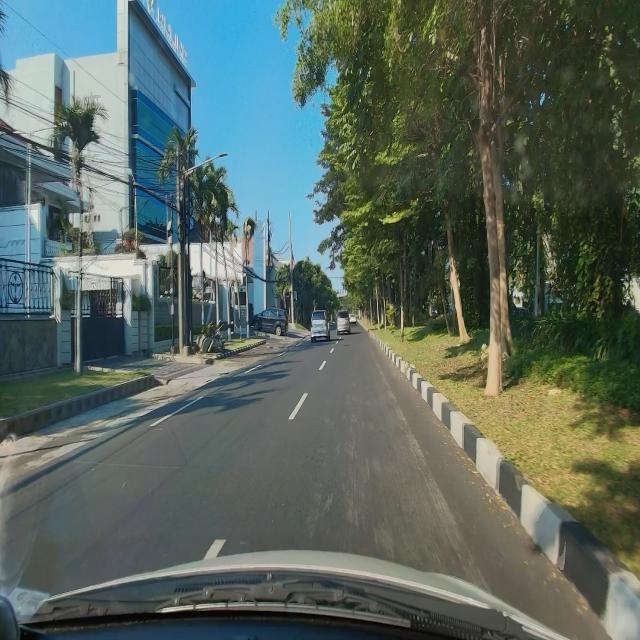car: (310, 309, 331, 343)
